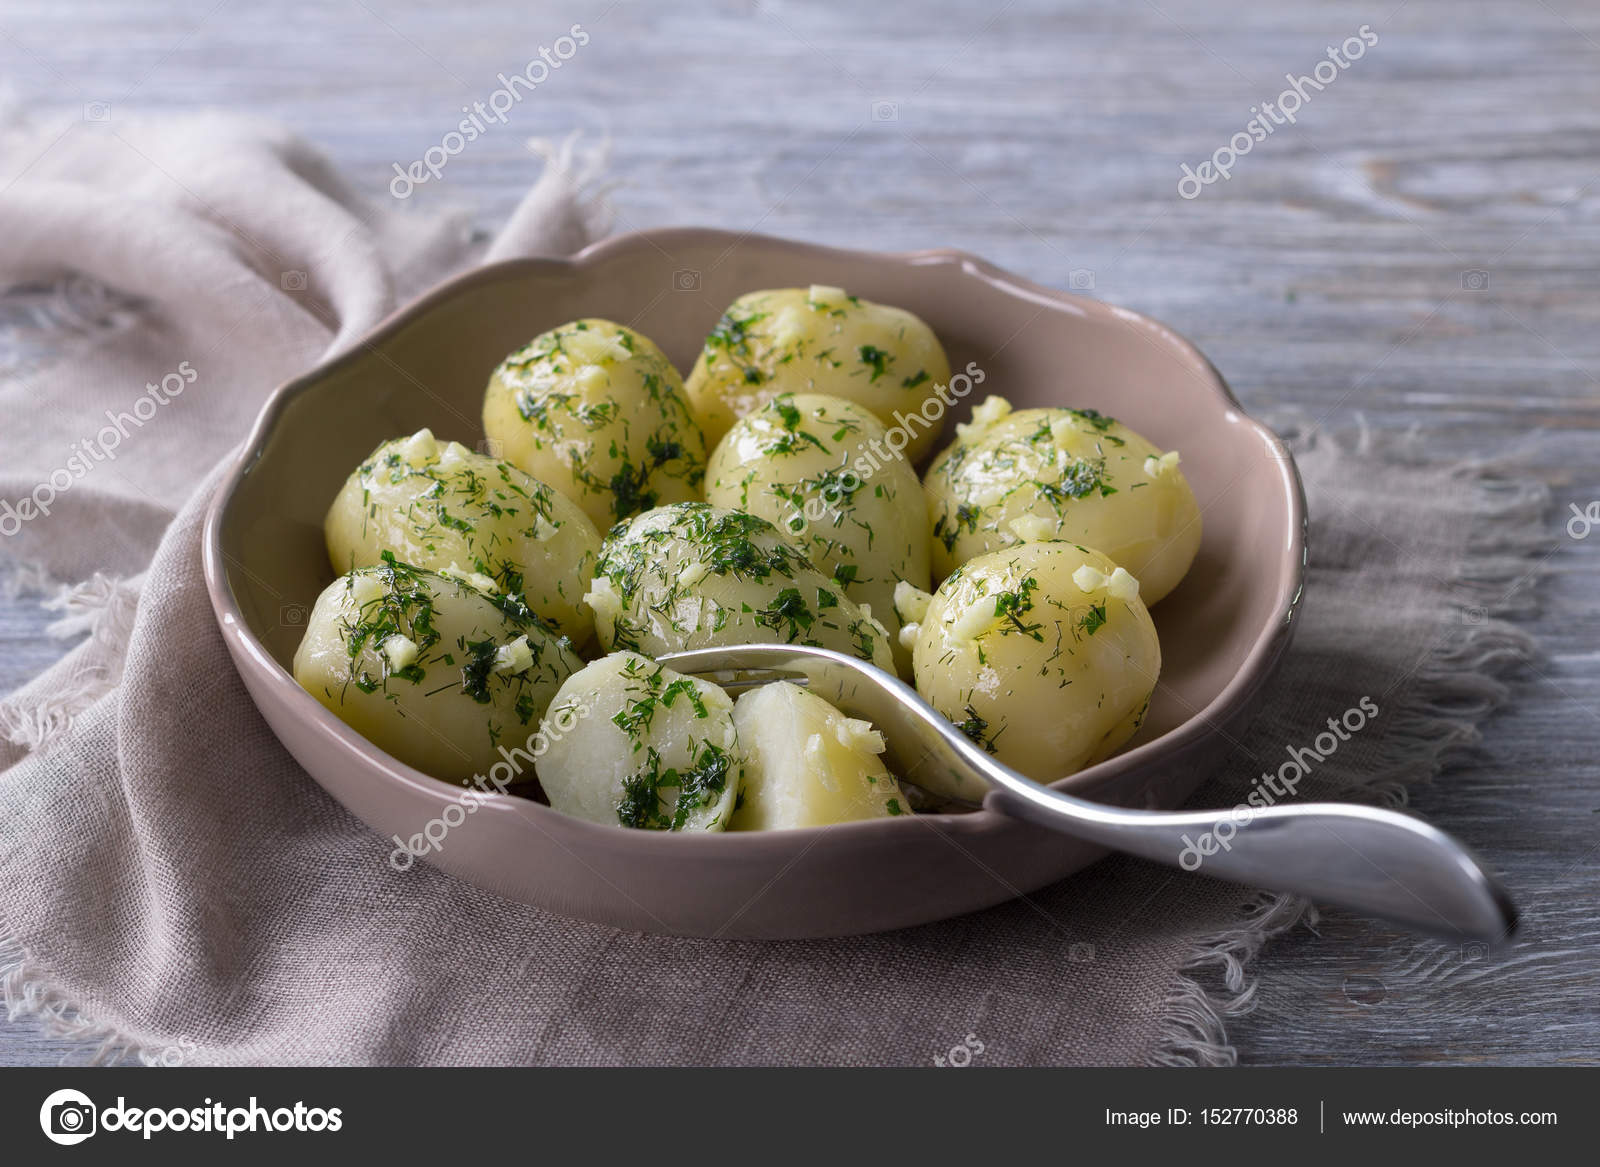boiled potatoes: (540, 339, 1135, 691)
